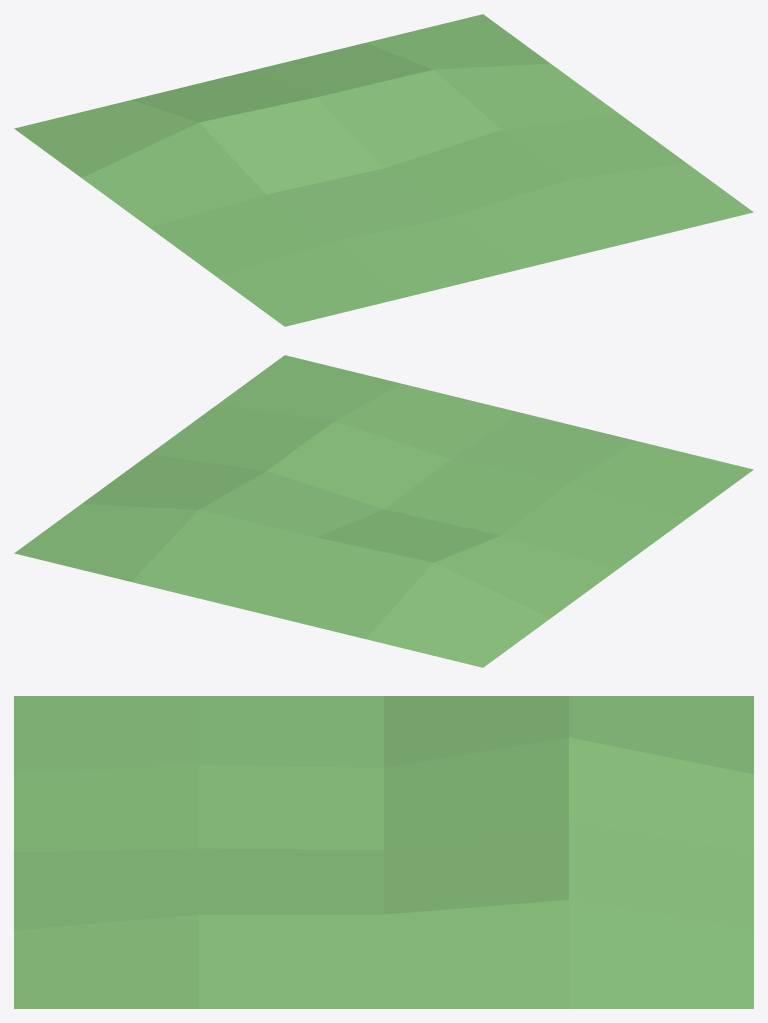
File: Tile_04_Grass_Lush.glb
3 renders of one model, top to bottom at view 1: azimuth 30°, elevation 25°; view 2: azimuth 150°, elevation 25°; view 3: azimuth 270°, elevation 25°, orthographic. The views are drawn at different scales.
Visible parts, largest first — view 1: Tile_Grass_Lush; view 2: Tile_Grass_Lush; view 3: Tile_Grass_Lush.
Part boxes in pixels (x1,y1,x2,y2): Tile_Grass_Lush: (14, 14, 753, 326); Tile_Grass_Lush: (14, 355, 753, 667); Tile_Grass_Lush: (14, 696, 753, 1008).
Bounding box in the file's own units: 0.2 × 0.011 × 0.2.
